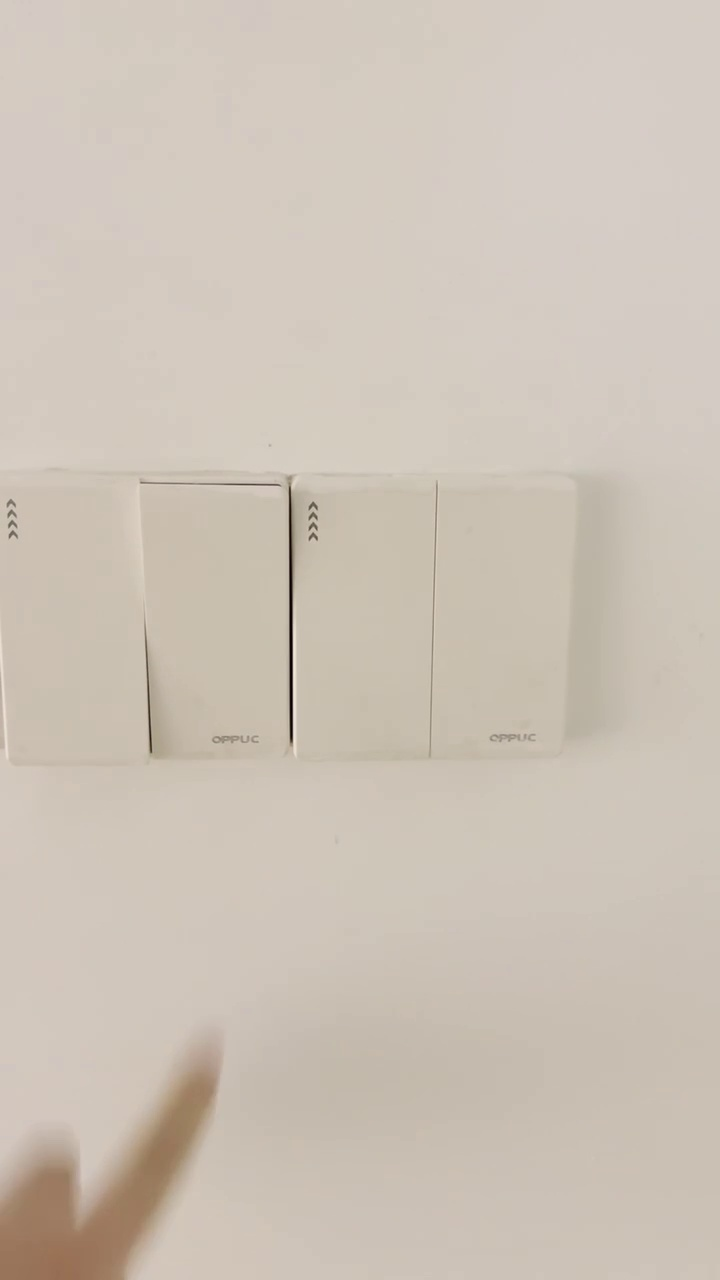button1: (138, 478, 292, 764), (0, 481, 138, 760), (293, 482, 430, 757), (433, 485, 564, 751)
